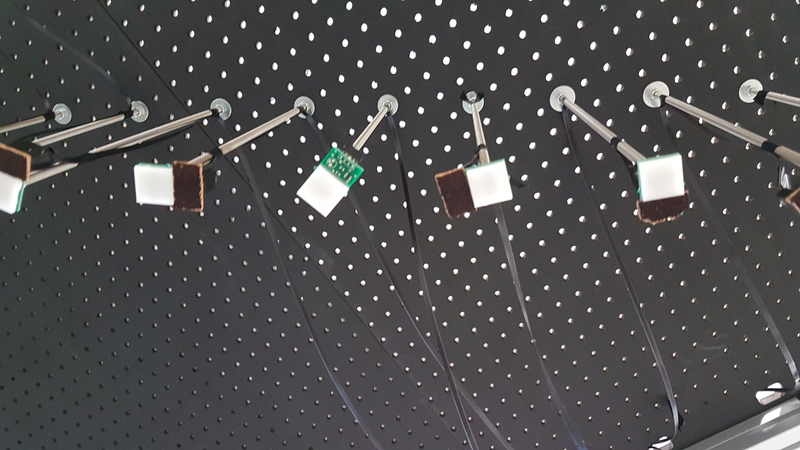target: (294, 166, 349, 220), (637, 154, 686, 203), (462, 162, 513, 206), (131, 166, 179, 208)
